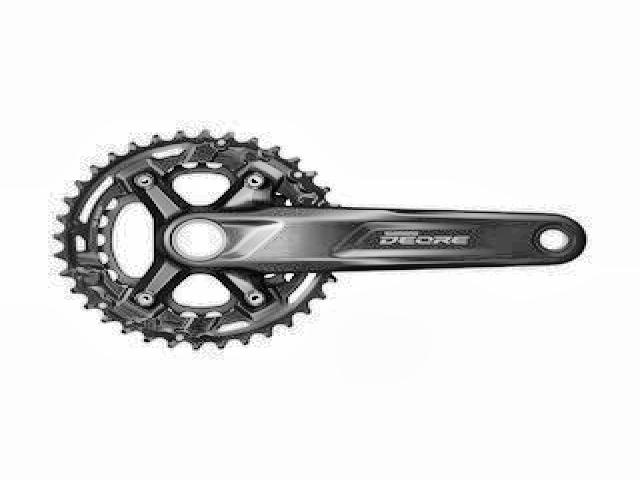cranks_set: (55, 129, 587, 353)
